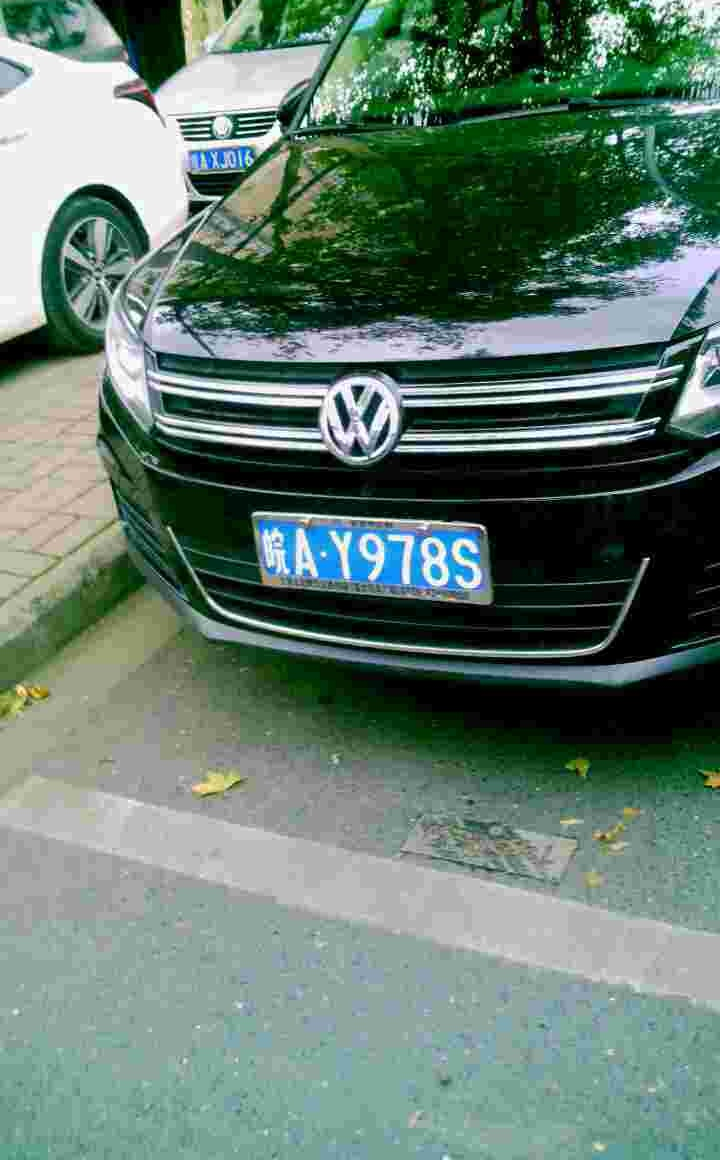license_plate: (261, 524, 487, 595)
